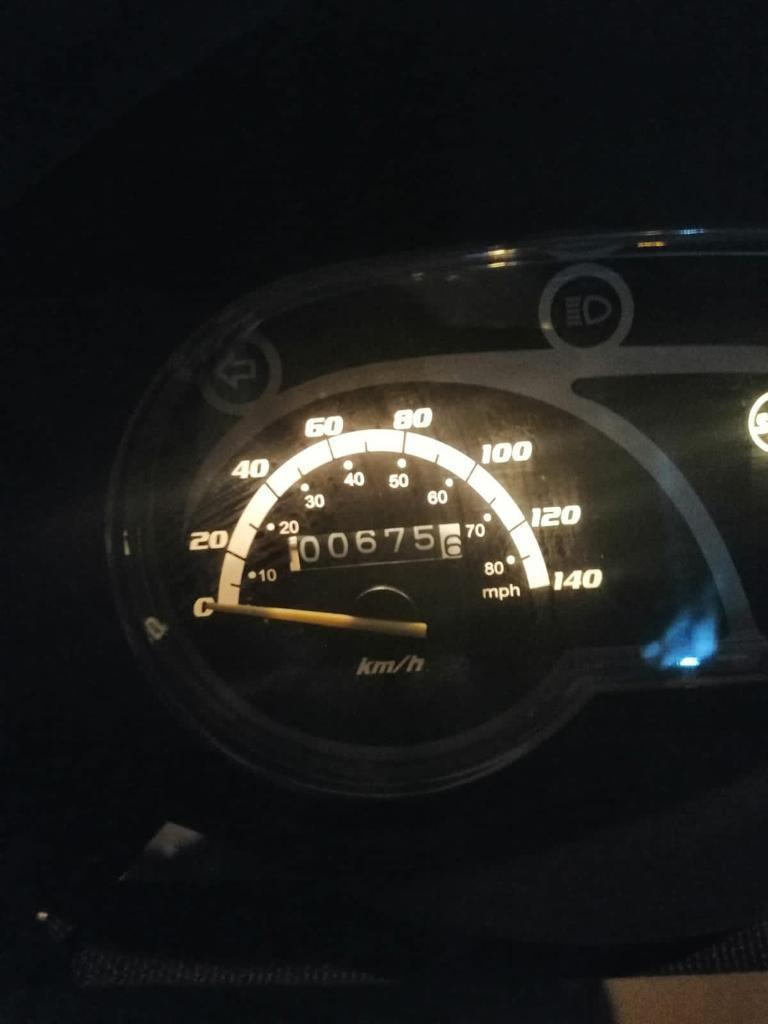0: (325, 530, 349, 559), (298, 535, 320, 563), (289, 519, 299, 534)
2: (282, 520, 289, 535)
5: (412, 522, 435, 552)
6: (354, 528, 377, 555), (443, 531, 463, 557)
7: (382, 525, 406, 554)
odometer: (282, 518, 466, 573)
